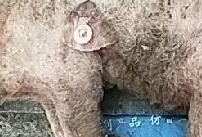text: (62, 18, 106, 48)
